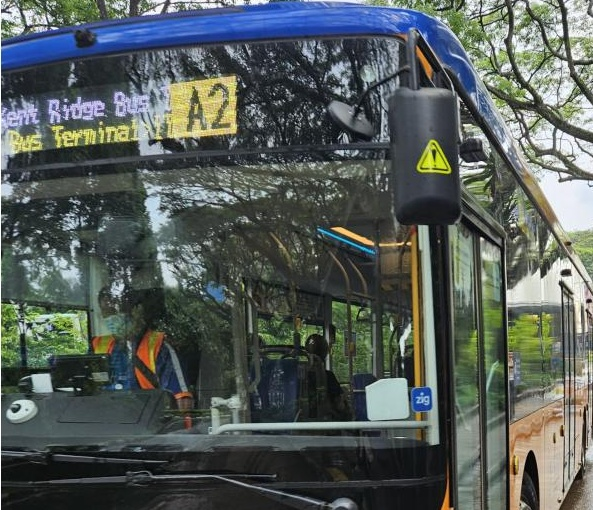bus: (167, 76, 238, 136)
